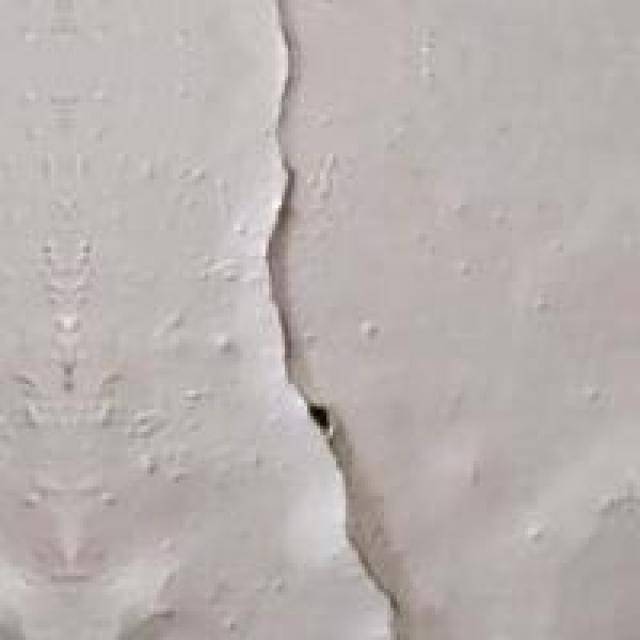crack: (198, 0, 420, 637)
